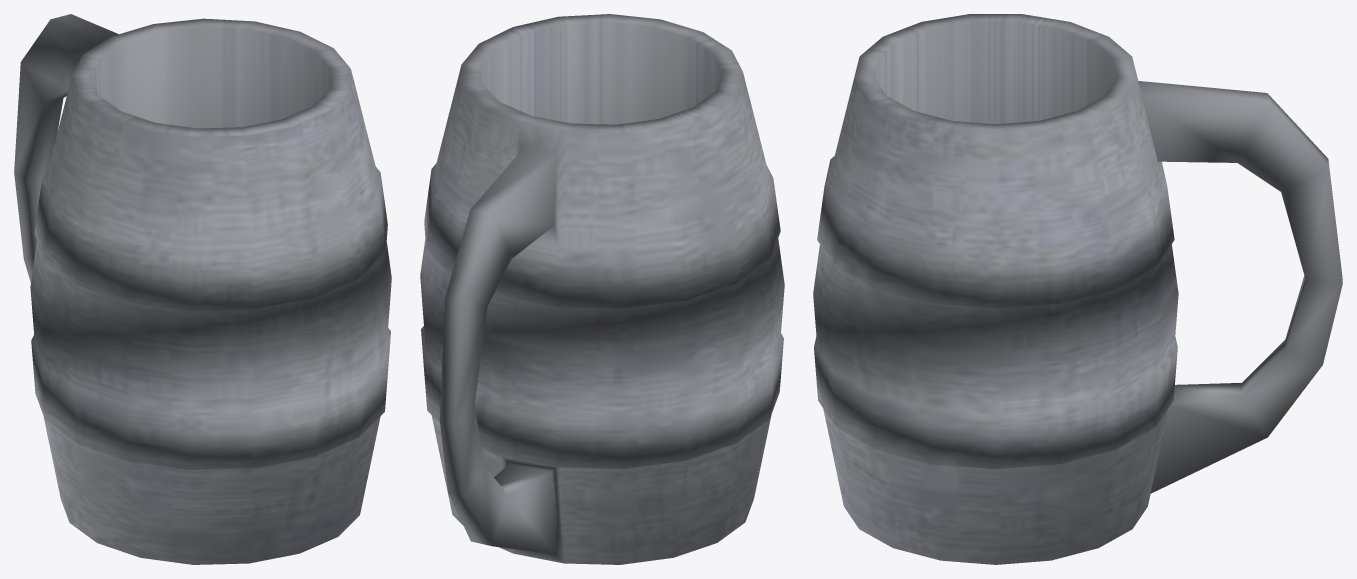
File: tankard.fbx
3 views of the same model, side by side, from view 1: azimuth 30°, elevation 25°; view 2: azimuth 150°, elevation 25°; view 3: azimuth 270°, elevation 25° (orthographic).
Parts seen in each view (by area): view 1: objets:T2_tanktard; view 2: objets:T2_tanktard; view 3: objets:T2_tanktard.
Part boxes in pixels (bbox=[...]): objets:T2_tanktard: bbox=[14, 14, 391, 564]; objets:T2_tanktard: bbox=[420, 14, 784, 564]; objets:T2_tanktard: bbox=[813, 14, 1342, 564].
Size of the model in its own units: 10.68 by 13.84 by 15.54.
